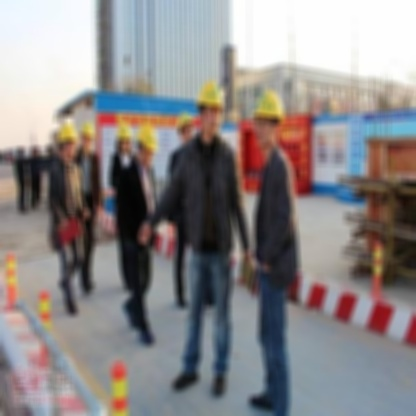yellow: (250, 84, 290, 129), (196, 74, 230, 110), (135, 120, 163, 153), (113, 116, 134, 146), (57, 121, 82, 144), (78, 115, 99, 142), (177, 108, 197, 131)
